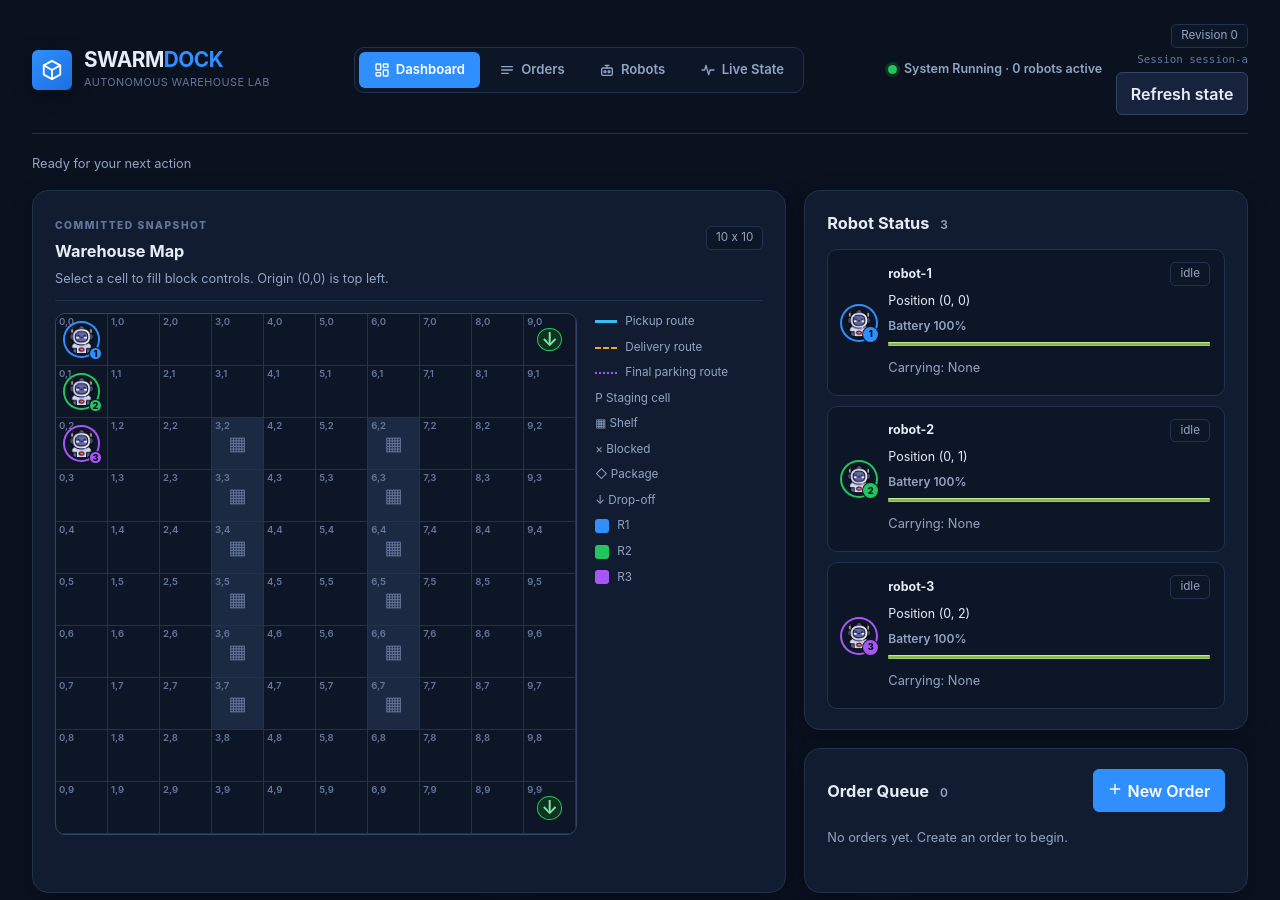
Test: 422 preserves order form values
Expected: the text "Session session-a" is shown, x1=1137 y1=52 x2=1248 y2=68
Step 1. Click the button "New Order" → (1159, 790), box x1=1093 y1=769 x2=1225 y2=812
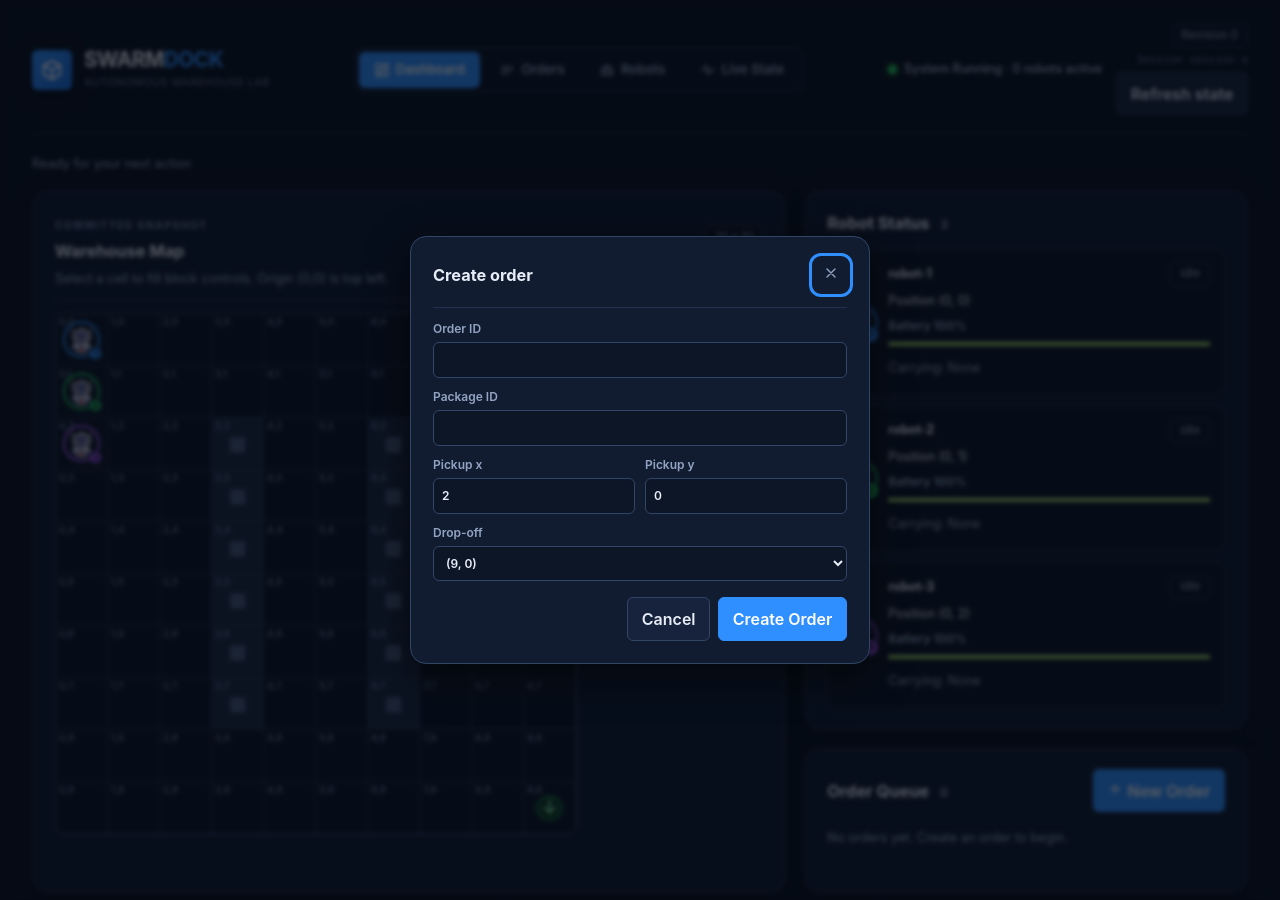
Now the field labelled "Order ID" is shown
Step 2. Type "duplicate" into the field labelled "Order ID" → (640, 360), box x1=433 y1=342 x2=847 y2=378
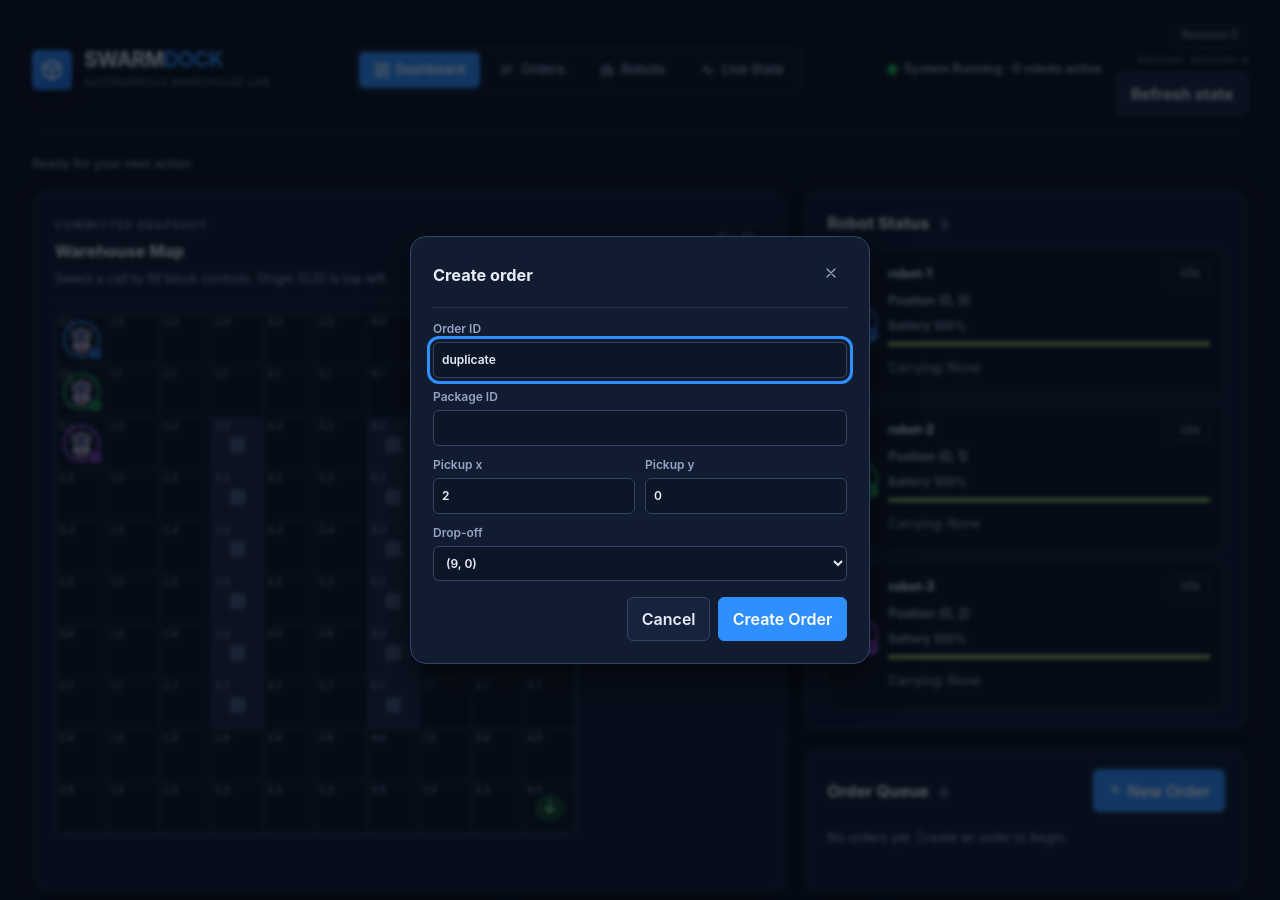
Step 3. Type "p" into the field labelled "Package ID" → (640, 428), box x1=433 y1=410 x2=847 y2=446
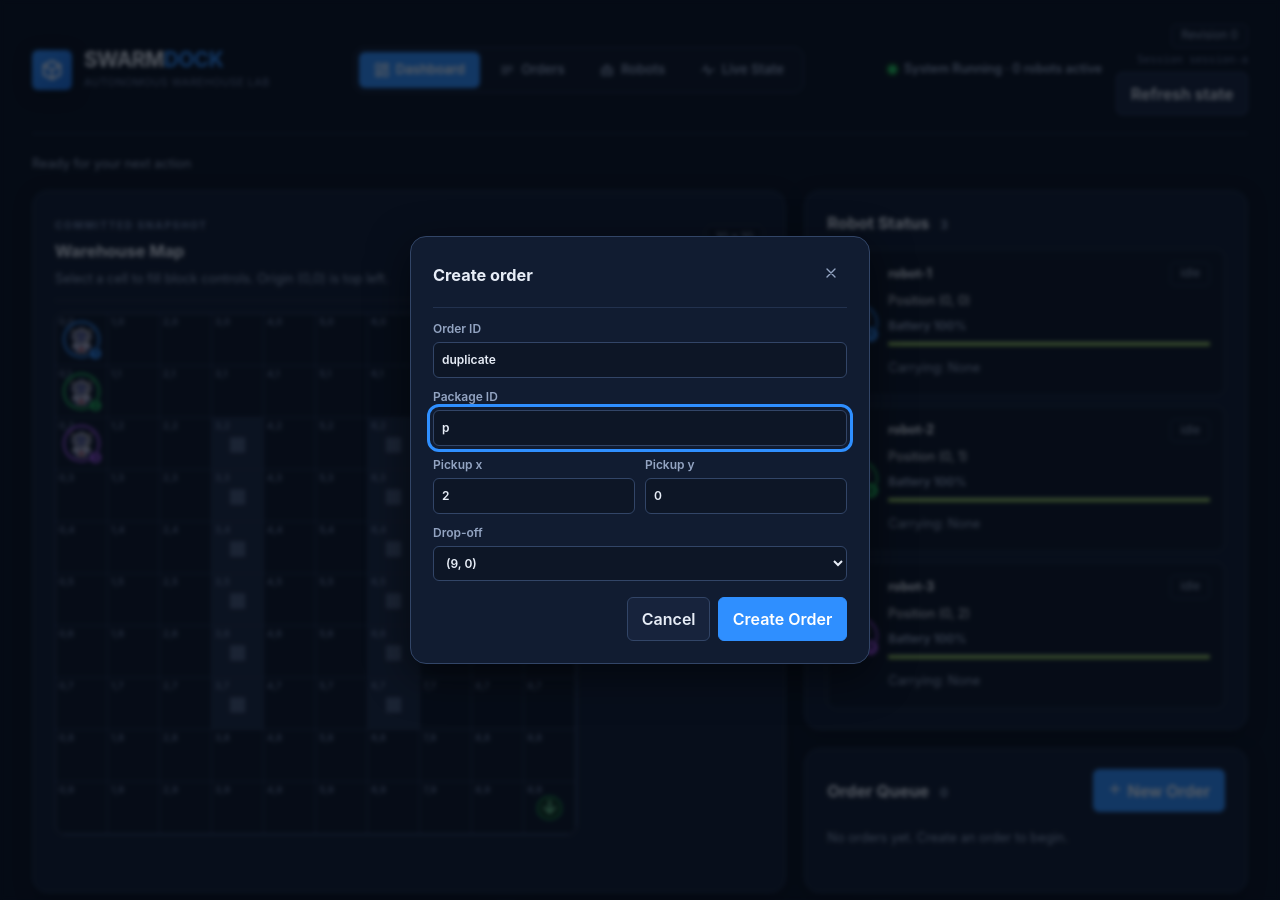
Step 4. Click the button "Create Order" → (783, 619), box x1=718 y1=597 x2=847 y2=641
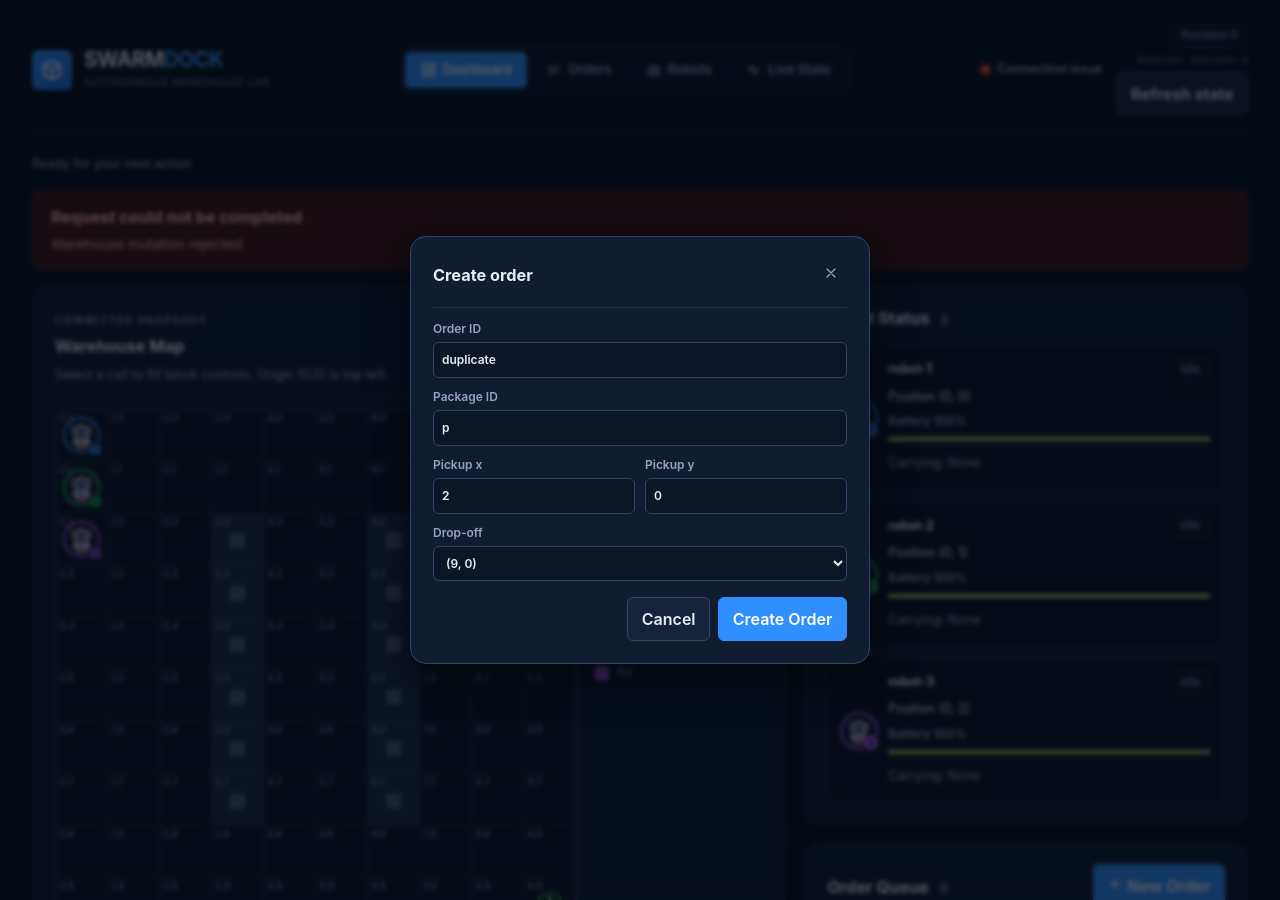
Now the text "Warehouse mutation rejected" is shown, box x1=51 y1=236 x2=242 y2=252
